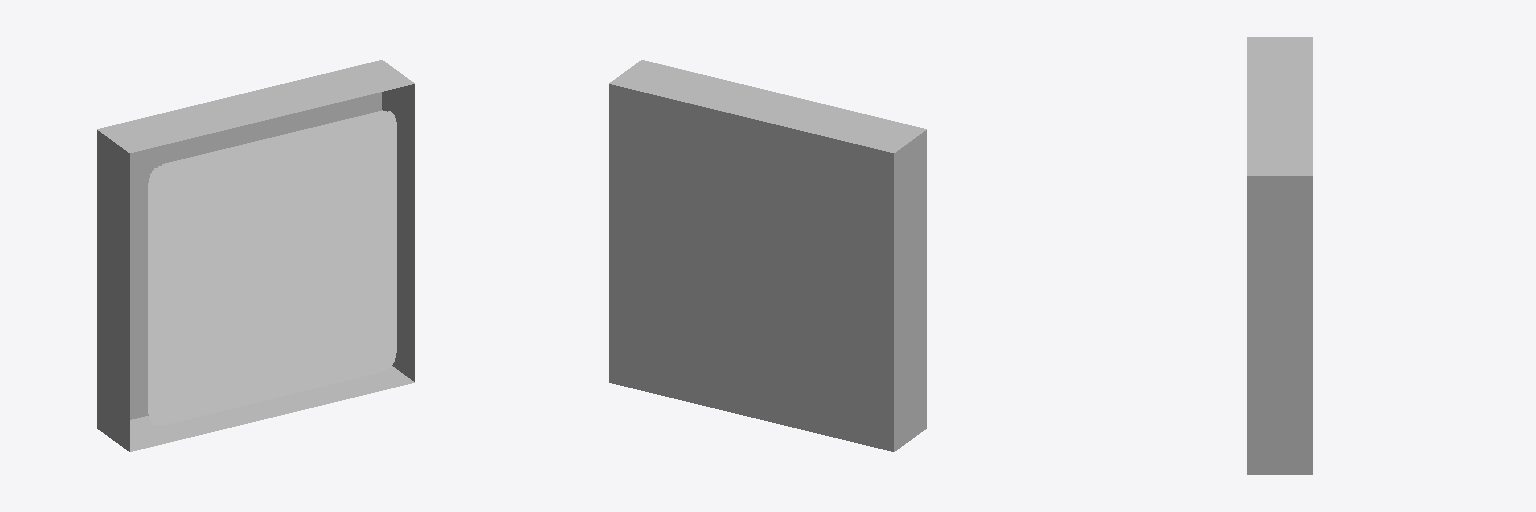
The picture shows the model from 3 angles: view 1: azimuth 30°, elevation 25°; view 2: azimuth 150°, elevation 25°; view 3: azimuth 270°, elevation 25°; orthographic projection.
Visible parts, largest first — view 1: Cube; view 2: Cube; view 3: Cube.
Part boxes in pixels (bbox=[...]): Cube: bbox=[97, 60, 414, 451]; Cube: bbox=[609, 60, 926, 451]; Cube: bbox=[1247, 37, 1312, 474].
Bounding box in the file's own units: 0.5 × 0.5 × 0.1.
Materials: 2 (1 with a texture image).